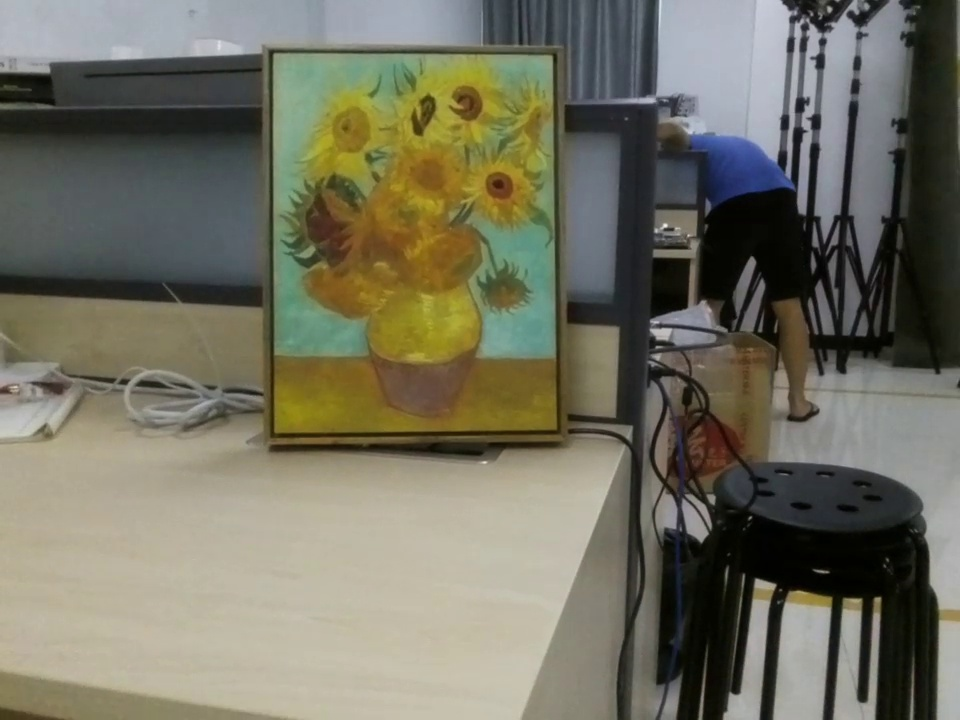painting: (264, 40, 575, 455)
